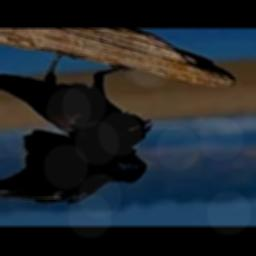Crow: (0, 49, 152, 204)
